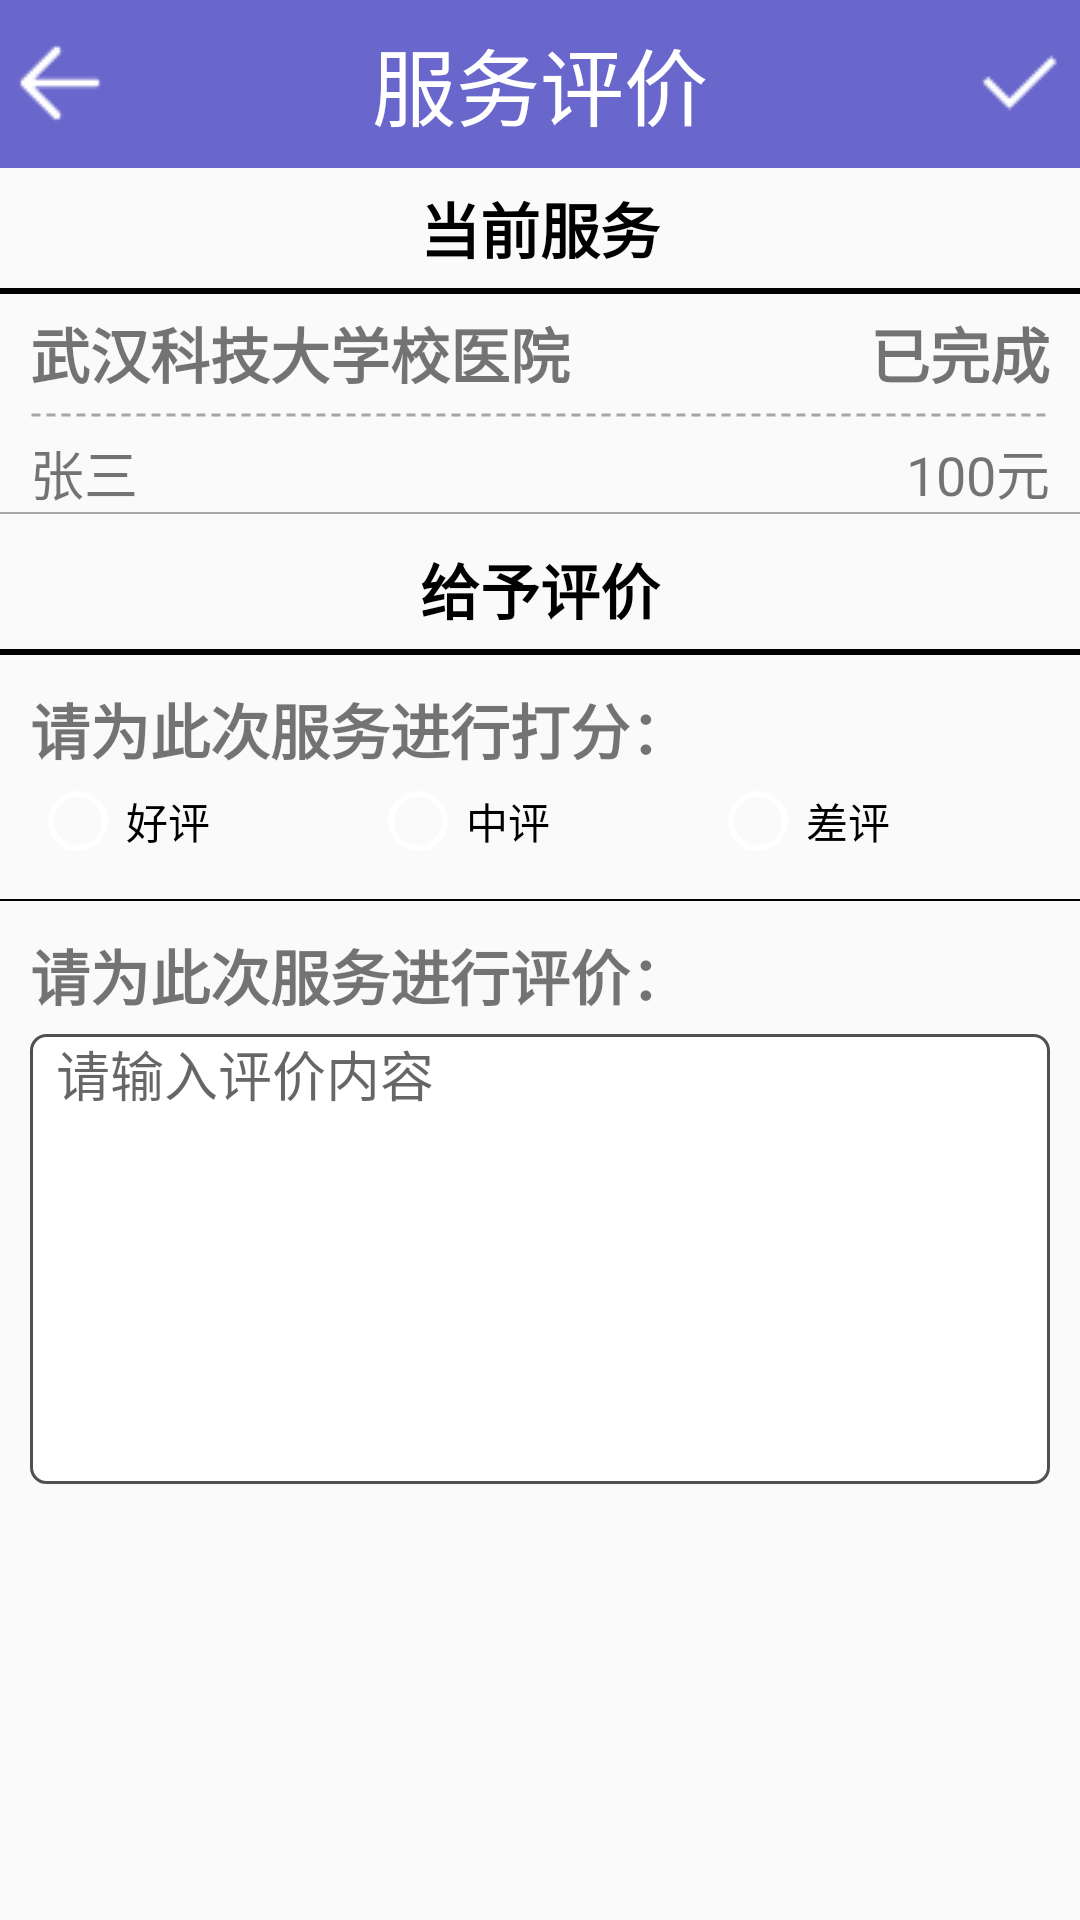

Where icons sit on this 1080 x 1920 app screen, as Rect(x1, y1, x2, y2):
back: Rect(20, 46, 100, 120)
save: Rect(983, 55, 1057, 110)
